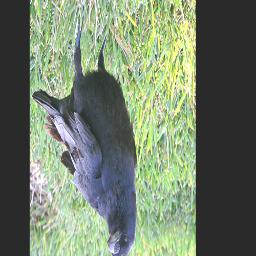Crow: (32, 11, 137, 256)
